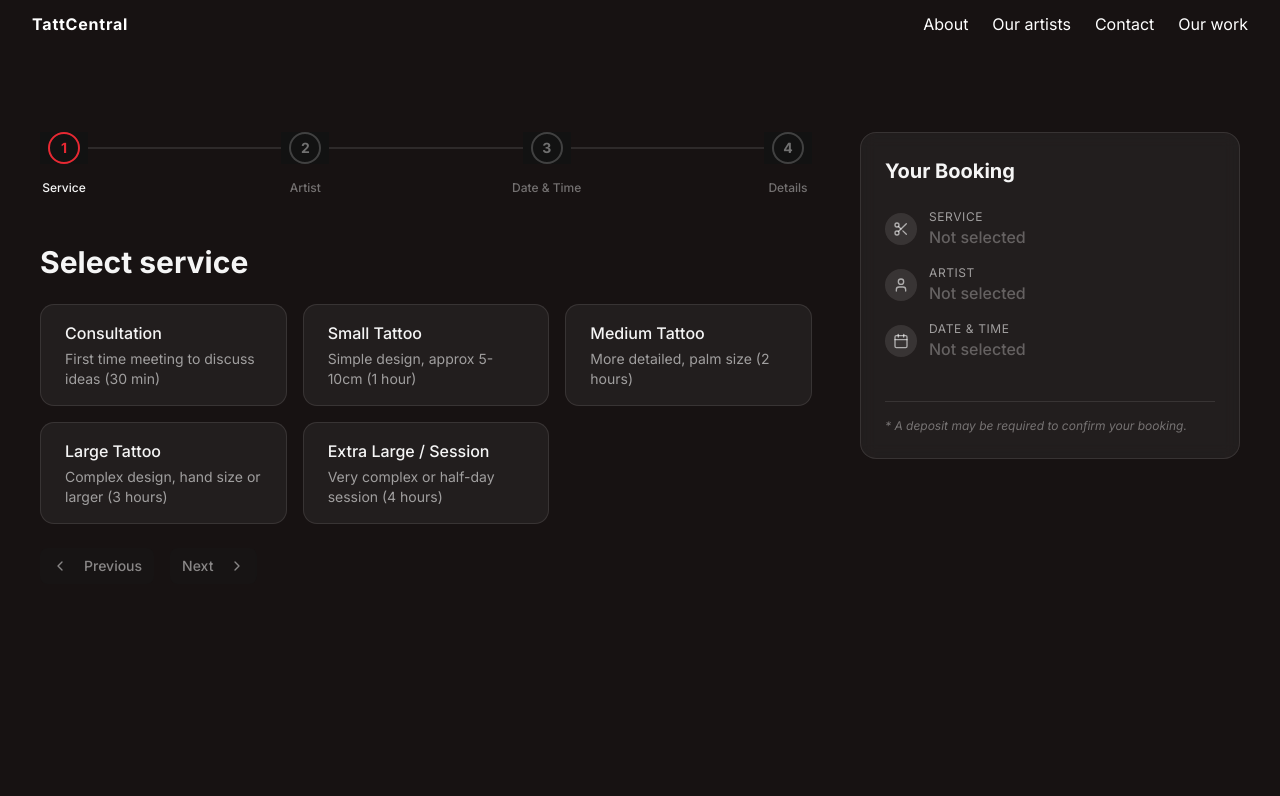
BookingRoute › navigates through the steps correctly
Note: Select Service
Click the text "Small Tattoo": x=375, y=333 [328, 321, 422, 345]
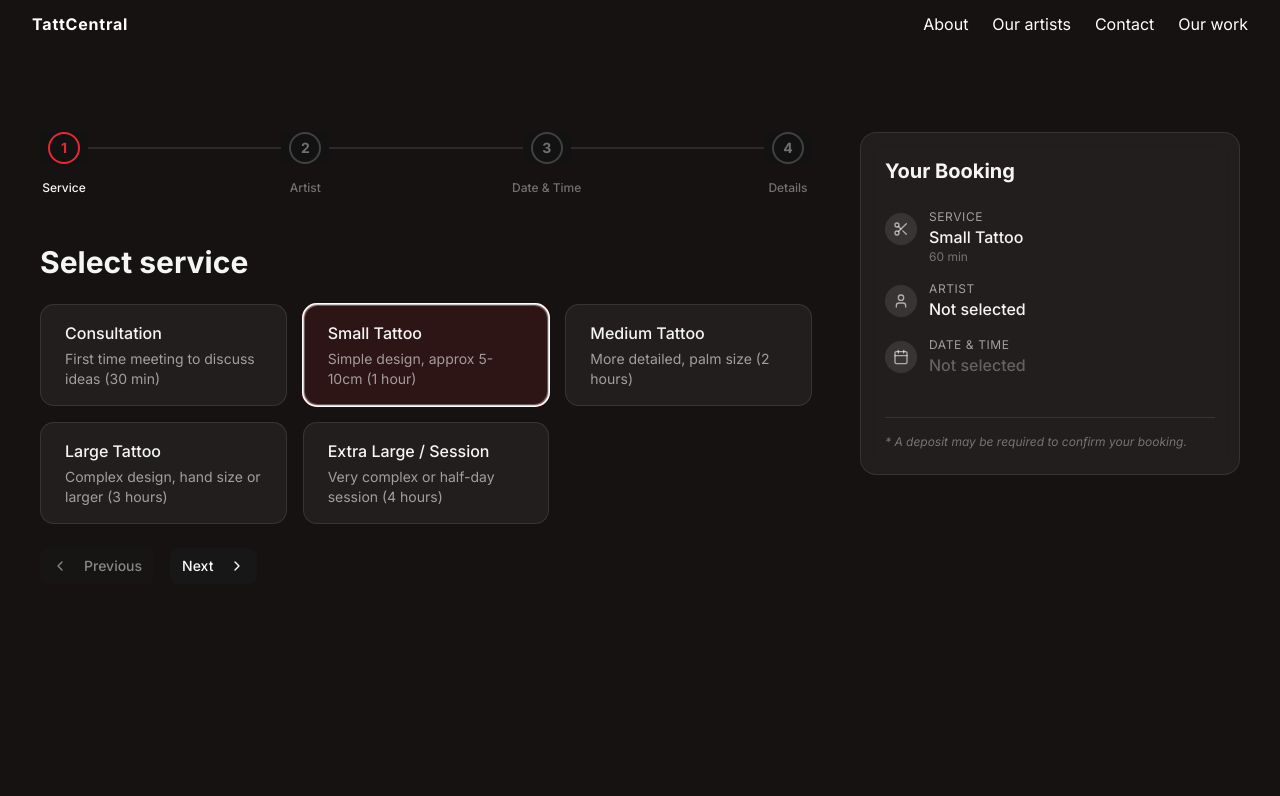
Now the button "Next" is enabled
Click the button "Next": x=214, y=566 [170, 548, 257, 584]
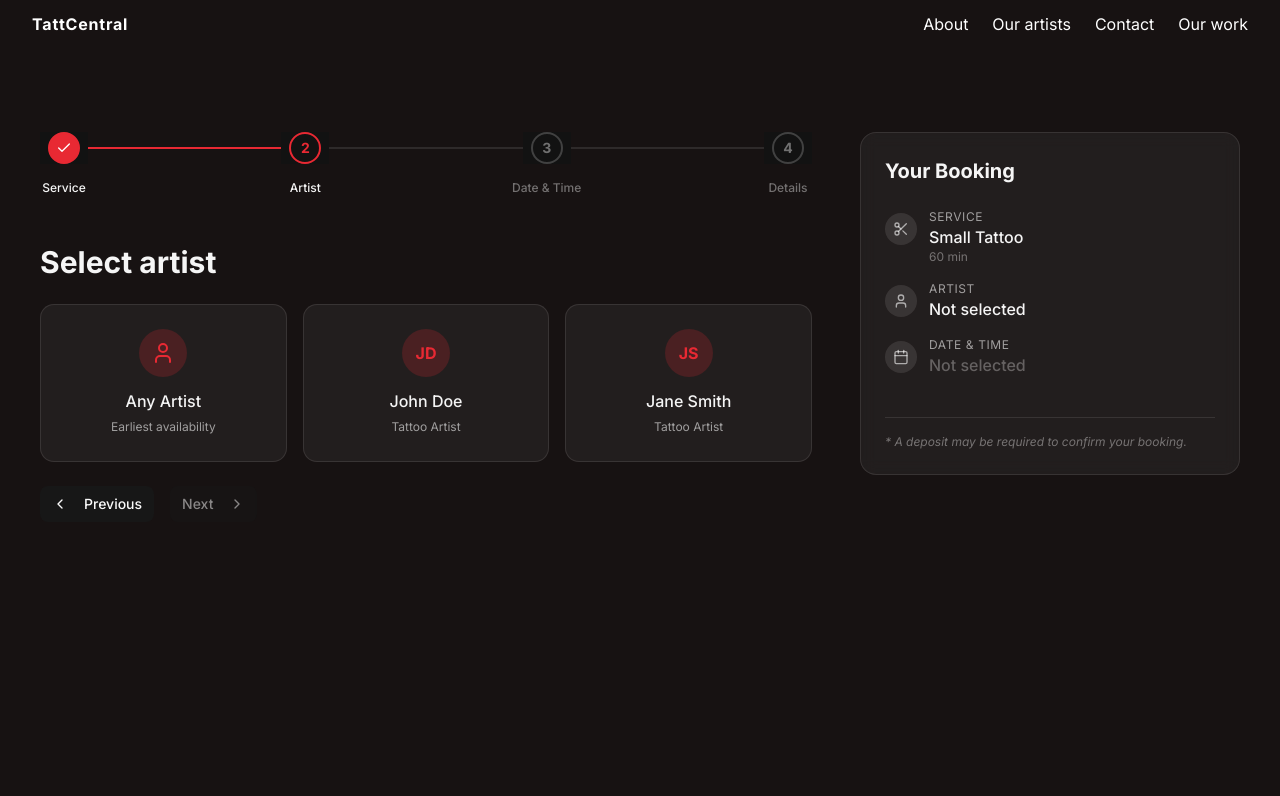
Now the heading "Select artist" is shown, box [40, 244, 216, 280]
Click the text "John Doe": x=426, y=401 [390, 389, 462, 413]
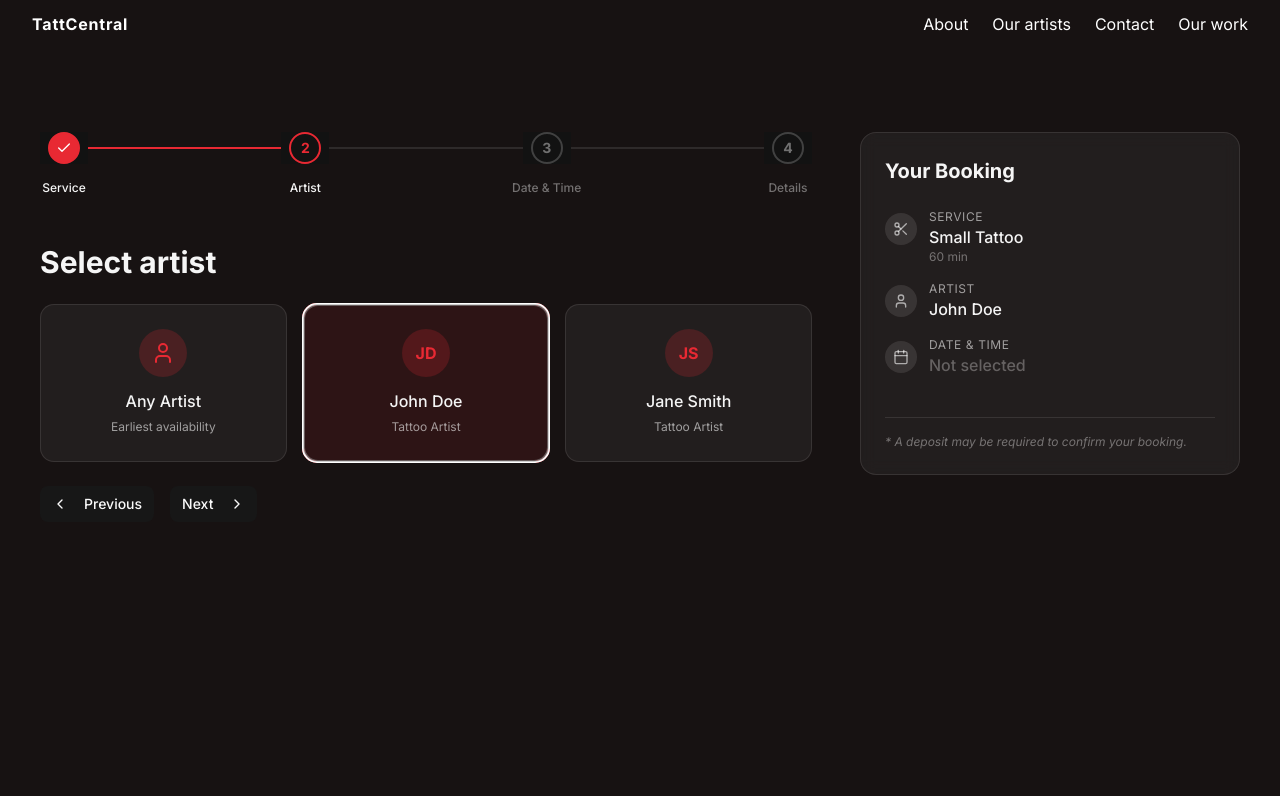
Click the button "Next": x=214, y=504 [170, 486, 257, 522]
(page scrolled)
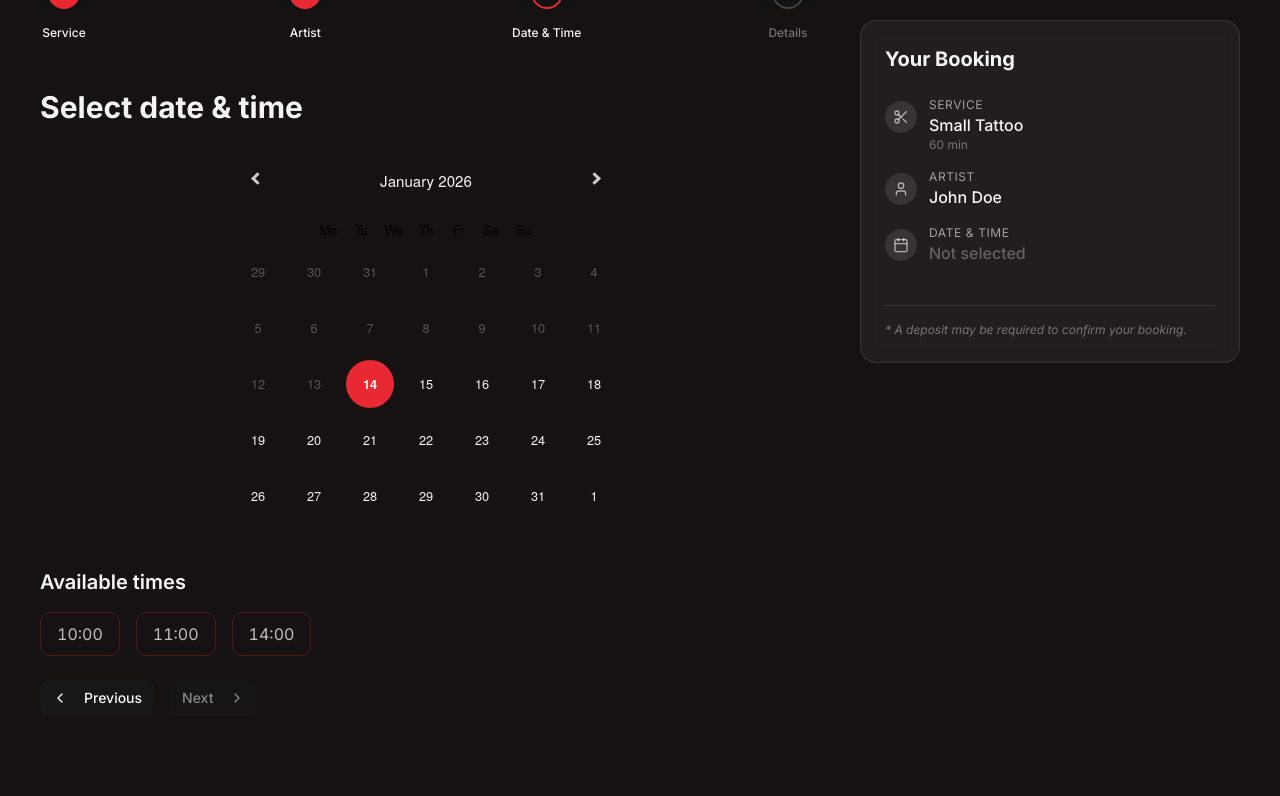
Now the heading "Select date & time" is shown, box [40, 89, 303, 125]
Note: Date is pre-selected to today in the component
Click the button "10:00": x=80, y=634 [40, 612, 120, 656]
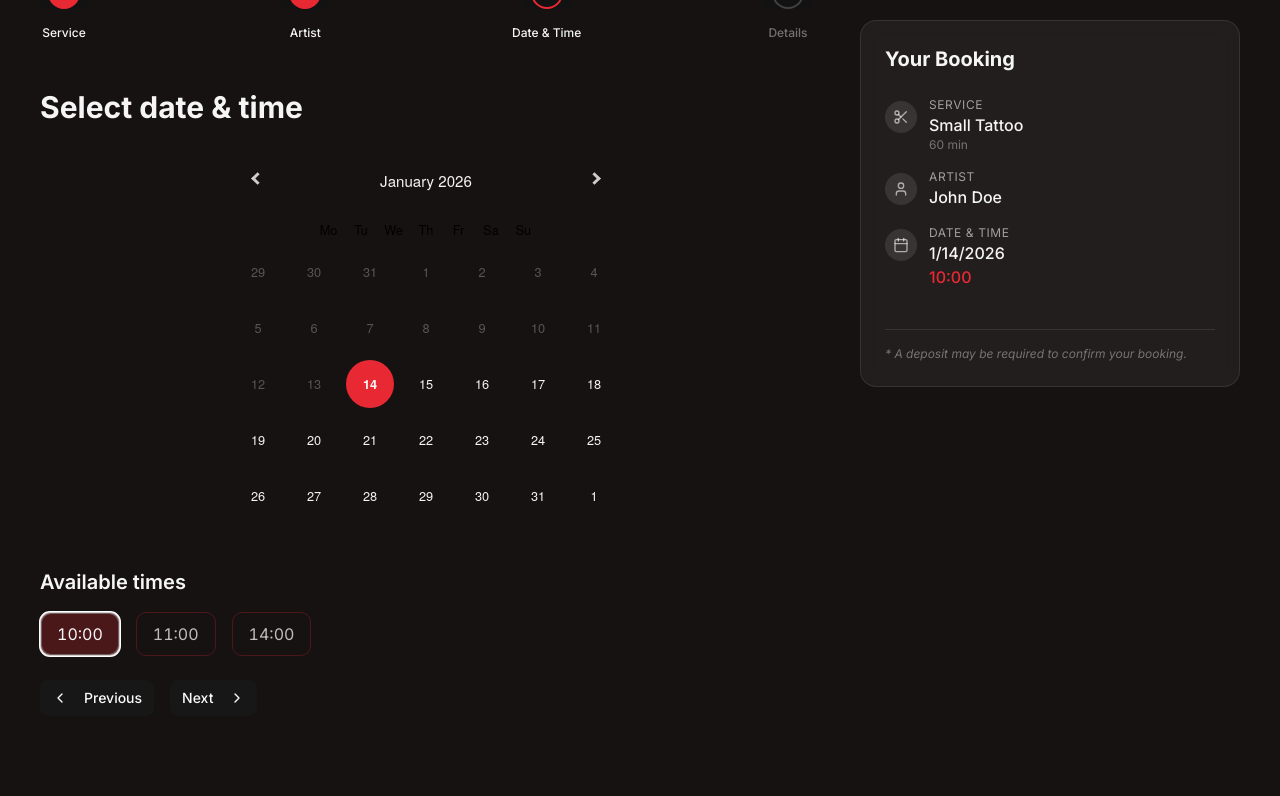
Click the button "Next": x=214, y=698 [170, 680, 257, 716]
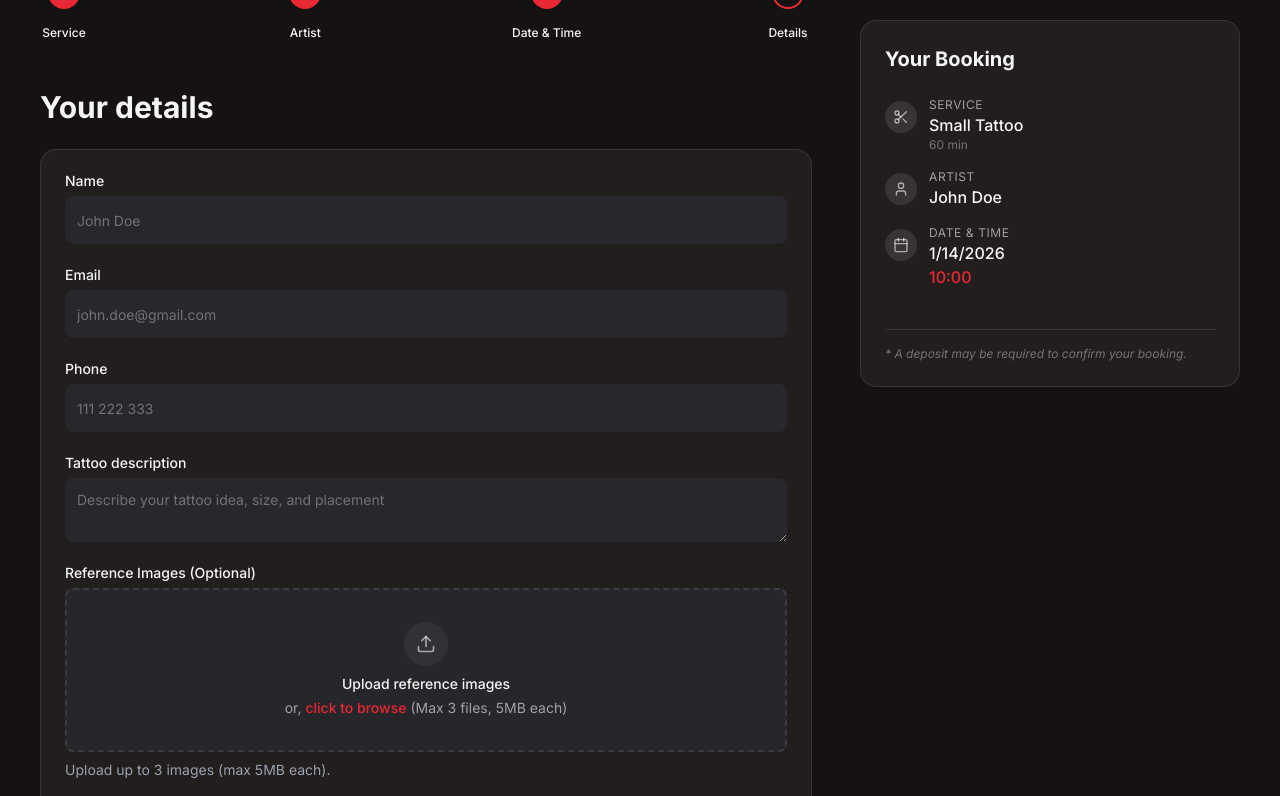
Now the heading "Your details" is shown, box [40, 89, 213, 125]
